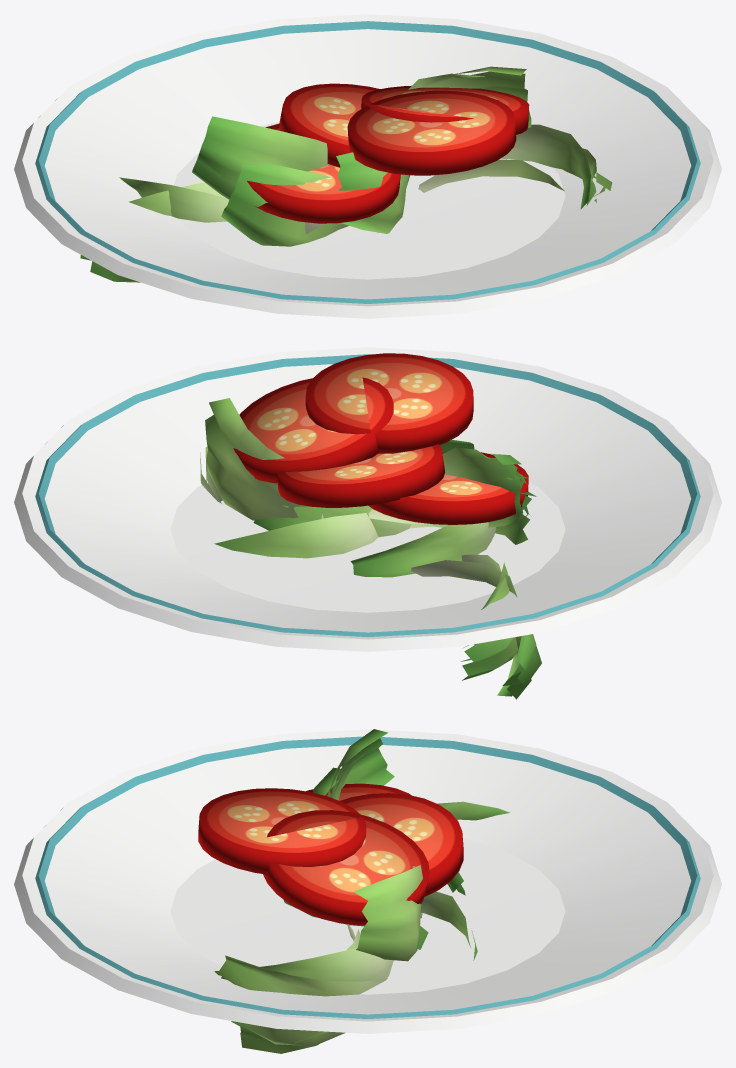
File: kr_p_lettuce_tomato.glb
3 renders of one model, top to bottom at view 1: azimuth 30°, elevation 25°; view 2: azimuth 150°, elevation 25°; view 3: azimuth 270°, elevation 25°, orthographic.
Parts seen in each view (by area): view 1: vc_m0_r2, vc_m0_r4, kr_p_lettuce_tomato_f_tomslice; view 2: vc_m0_r2, vc_m0_r4, kr_p_lettuce_tomato_f_tomslice; view 3: vc_m0_r2, vc_m0_r4, kr_p_lettuce_tomato_f_tomslice.
Part boxes in pixels (left/top/right/bottom): vc_m0_r2: left=14, top=14, right=721, bottom=318; vc_m0_r4: left=35, top=21, right=700, bottom=303; kr_p_lettuce_tomato_f_tomslice: left=247, top=83, right=529, bottom=223; vc_m0_r2: left=14, top=347, right=721, bottom=651; vc_m0_r4: left=35, top=354, right=700, bottom=699; kr_p_lettuce_tomato_f_tomslice: left=233, top=353, right=528, bottom=524; vc_m0_r2: left=14, top=729, right=721, bottom=1033; vc_m0_r4: left=35, top=729, right=700, bottom=1053; kr_p_lettuce_tomato_f_tomslice: left=198, top=783, right=463, bottom=925.
Bounding box in the file's own units: 0.43 × 0.1215 × 0.43.
3 materials, 1 textured.
